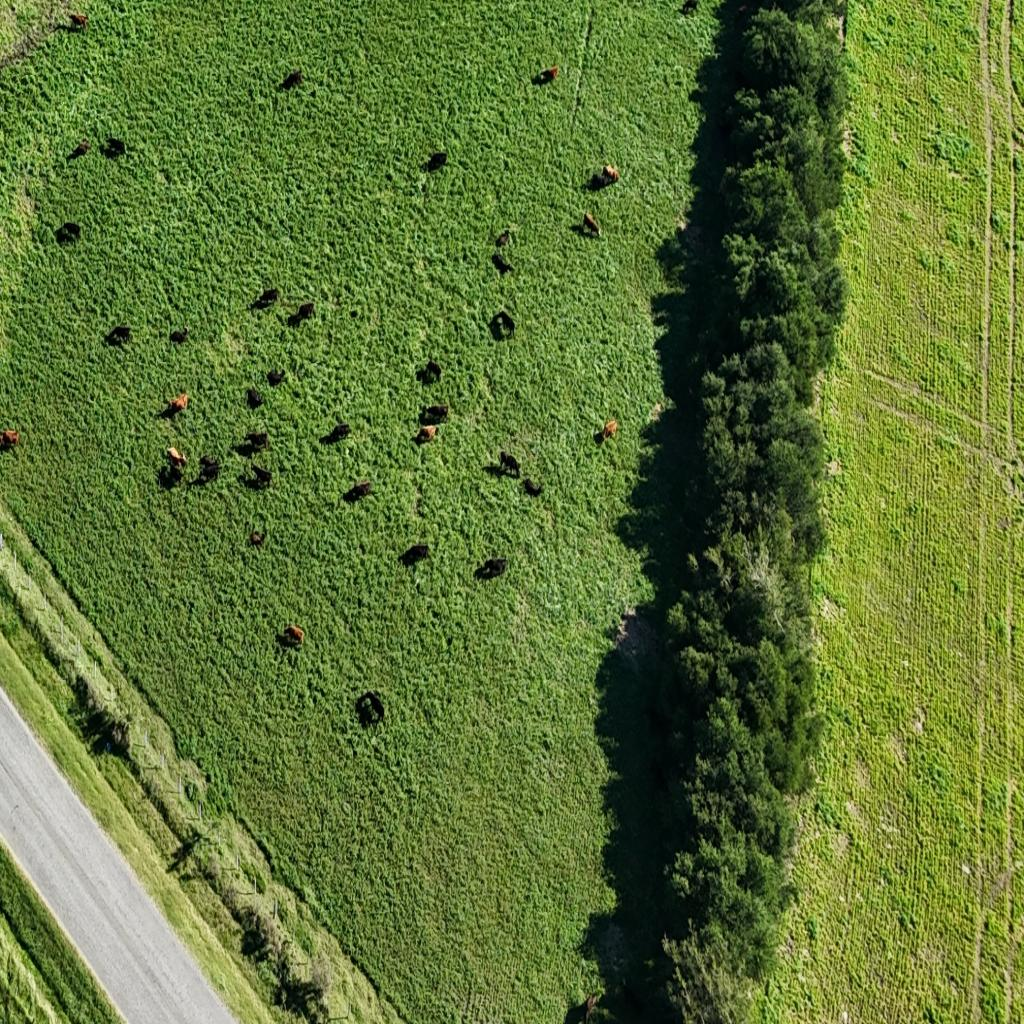cow: (566, 990, 598, 1024), (356, 691, 385, 726), (489, 310, 515, 341), (476, 557, 507, 580), (579, 212, 603, 240), (400, 543, 430, 565), (198, 456, 220, 484), (498, 452, 520, 480), (323, 422, 351, 444), (160, 465, 184, 490), (289, 302, 314, 326), (421, 403, 448, 425), (344, 480, 371, 502), (280, 623, 304, 647), (252, 287, 278, 309), (56, 222, 81, 244), (250, 465, 272, 490), (105, 325, 131, 346), (164, 392, 188, 414), (492, 252, 513, 276), (166, 446, 186, 471), (59, 13, 85, 32), (246, 430, 268, 452), (415, 424, 438, 444), (0, 428, 20, 451), (426, 151, 447, 172), (104, 137, 126, 157), (280, 70, 302, 90), (422, 360, 441, 382), (535, 66, 558, 84), (522, 476, 542, 496), (69, 139, 89, 159), (602, 163, 620, 185), (247, 388, 264, 408), (266, 369, 285, 386), (603, 421, 618, 441), (495, 230, 511, 248), (250, 529, 266, 547), (170, 329, 189, 344), (683, 1, 702, 16)
